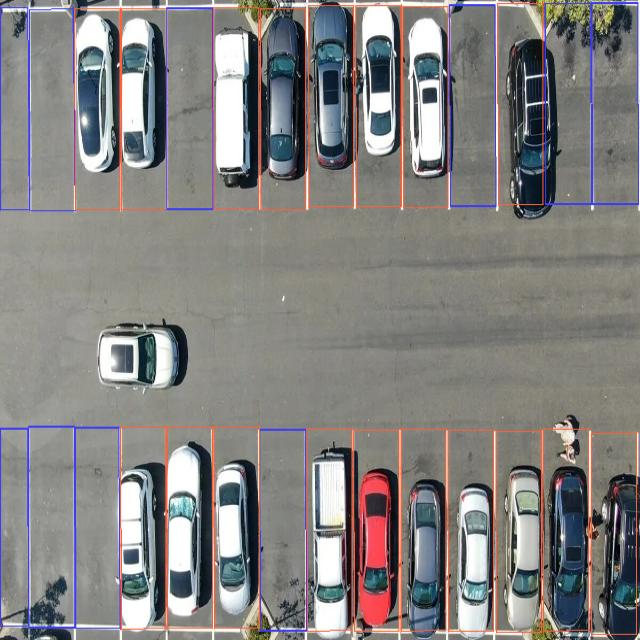space-empty: (446, 7, 498, 207), (256, 430, 308, 628), (23, 428, 73, 627), (167, 6, 216, 207), (590, 6, 639, 206), (75, 431, 123, 628), (28, 7, 74, 210), (551, 10, 593, 206), (1, 424, 32, 631), (0, 3, 30, 209)
space-occupied: (497, 4, 553, 209), (494, 428, 544, 632), (591, 429, 639, 637), (446, 428, 495, 630), (353, 9, 402, 208), (305, 8, 354, 207), (401, 9, 450, 206), (213, 7, 261, 206), (542, 428, 590, 627), (352, 430, 400, 628), (399, 430, 447, 628), (306, 433, 354, 629), (258, 8, 306, 202), (163, 433, 212, 622), (210, 432, 256, 621), (74, 8, 119, 184), (117, 457, 162, 628), (117, 7, 165, 166), (71, 0, 121, 7)
